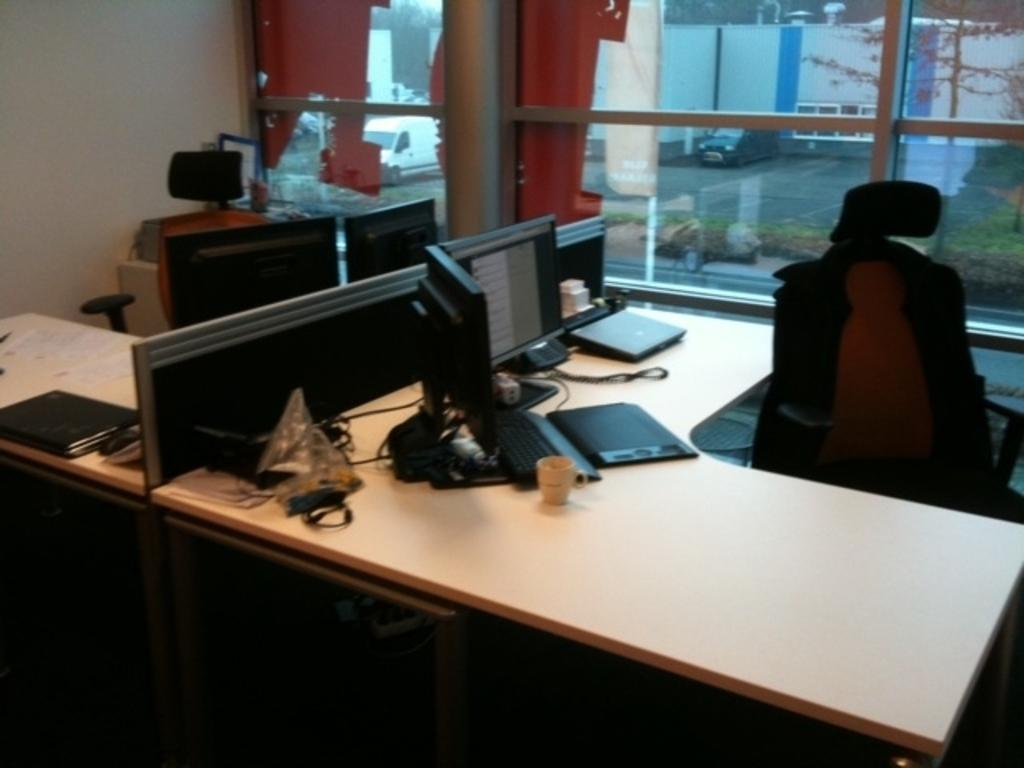Computer-keyboard: (496, 406, 600, 485)
Computer-monitor: (446, 216, 563, 403), (158, 222, 346, 333), (408, 246, 502, 437), (334, 195, 446, 291)
